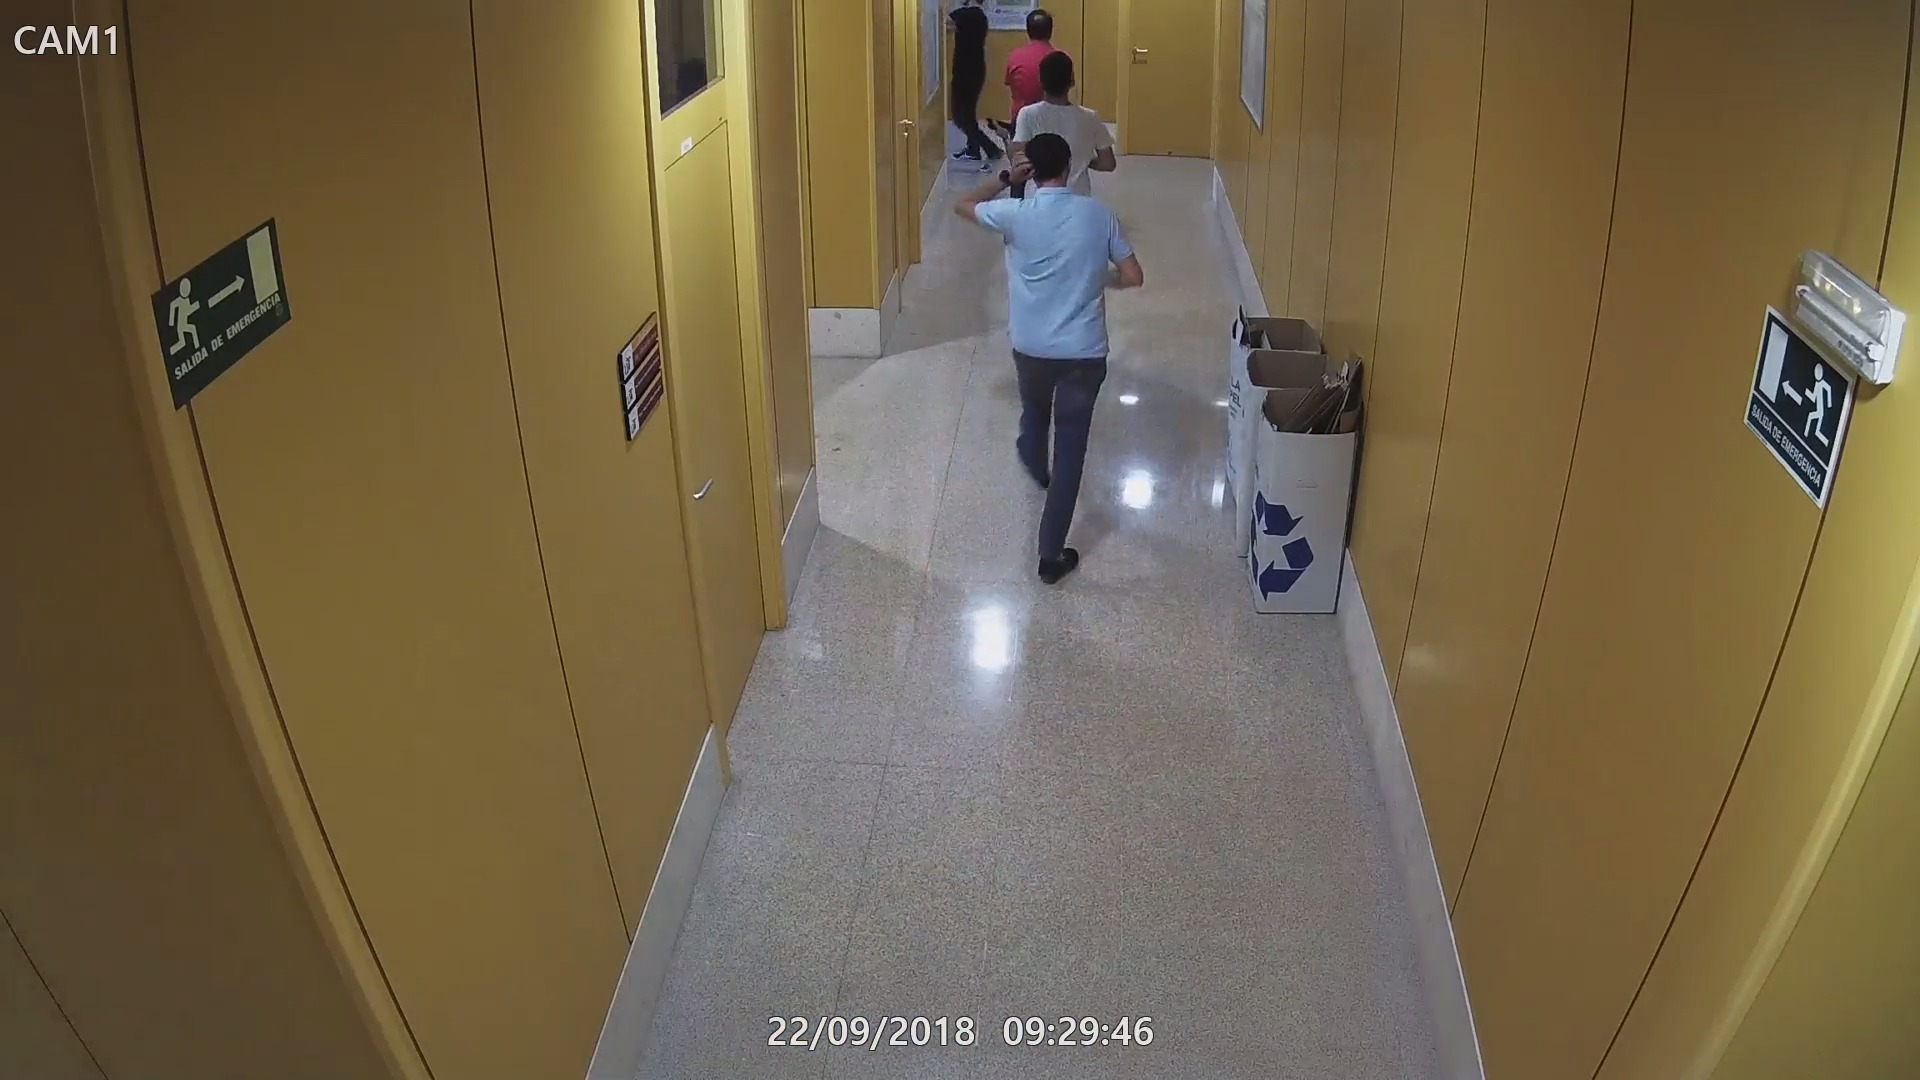Handgun: (982, 113, 1015, 153)
